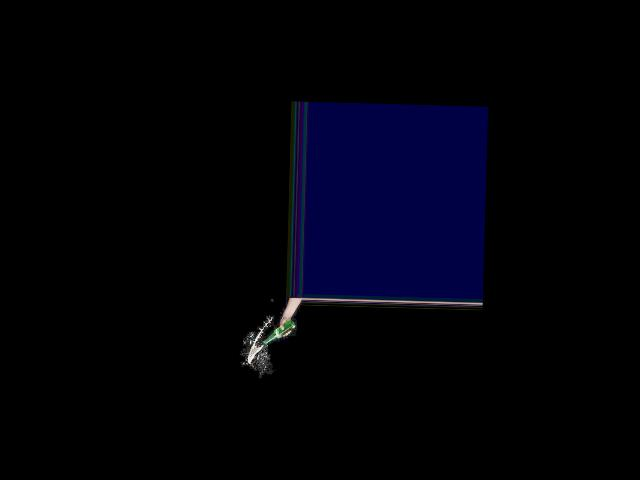beer: (264, 319, 296, 345)
